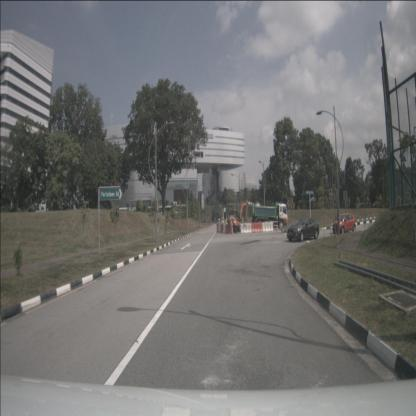movable_object-barrier: (262, 222, 274, 232), (241, 223, 252, 233), (252, 223, 262, 232), (225, 224, 233, 234), (222, 224, 227, 233), (221, 224, 224, 233), (218, 225, 221, 233), (219, 224, 221, 234)
movable_object-trafficcone: (230, 225, 234, 234), (276, 224, 279, 232)
vehicle-car: (287, 217, 319, 242), (332, 213, 355, 234)
vehicle-truck: (252, 204, 288, 231)
